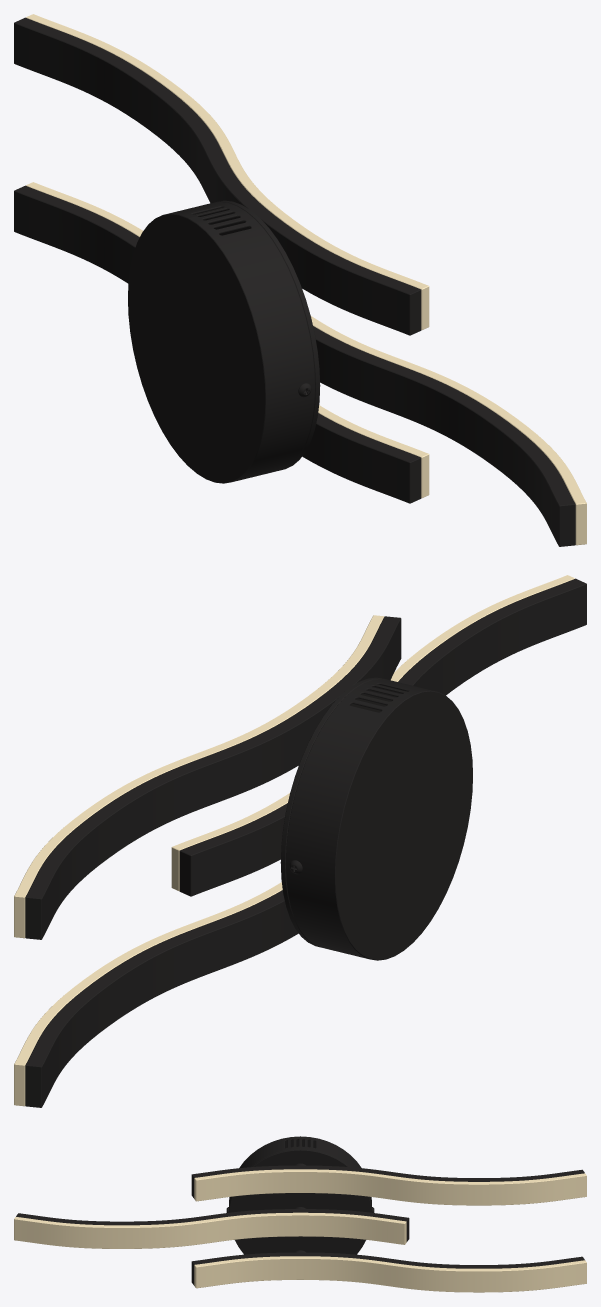
The model's file is tripple_light_wave.fbx.
3 views of the same model, one above another, from view 1: azimuth 30°, elevation 25°; view 2: azimuth 150°, elevation 25°; view 3: azimuth 270°, elevation 25° (orthographic). The views are drawn at different scales.
Visible parts, largest first — view 1: Ceiling light three - waves; view 2: Ceiling light three - waves; view 3: Ceiling light three - waves.
Part boxes in pixels (x1=…): Ceiling light three - waves: x1=14, y1=14, x2=586, y2=546; Ceiling light three - waves: x1=14, y1=575, x2=586, y2=1107; Ceiling light three - waves: x1=14, y1=1136, x2=586, y2=1292.
Bounding box in the file's own units: 15.44 × 24.94 × 100.
